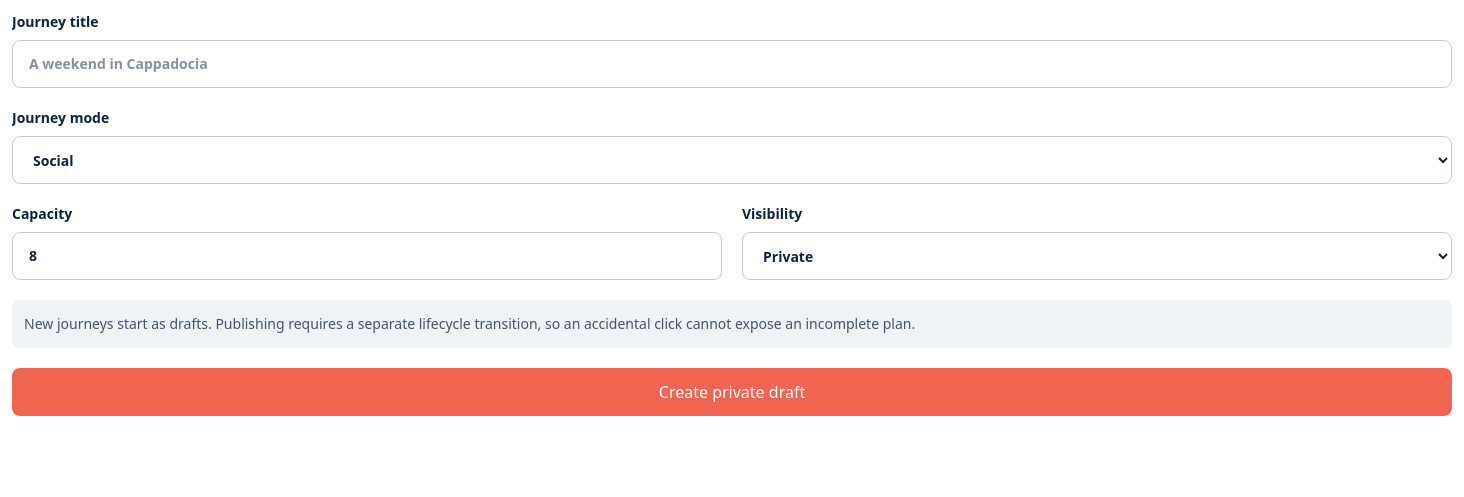
it: QuickCreateForm › offers sign-in recovery for an unauthenticated create
Type "Cappadocia Together" into the field labelled "Journey title" at (732, 64), box [12,40,1452,88]
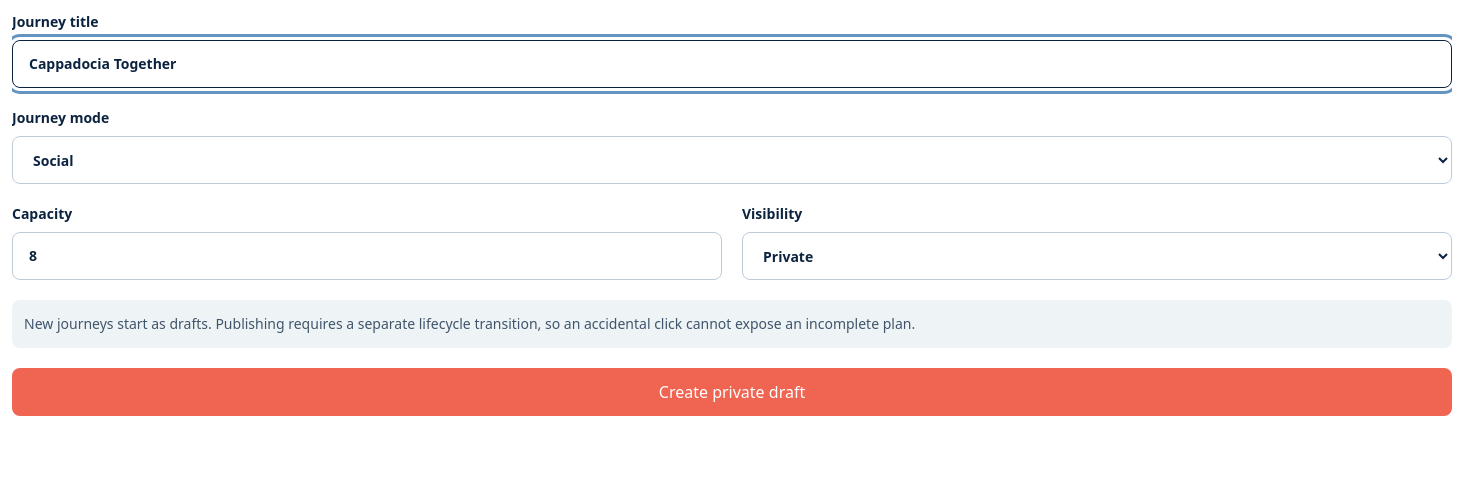
Click the button "Create private draft" at (732, 392), box [12,368,1452,416]
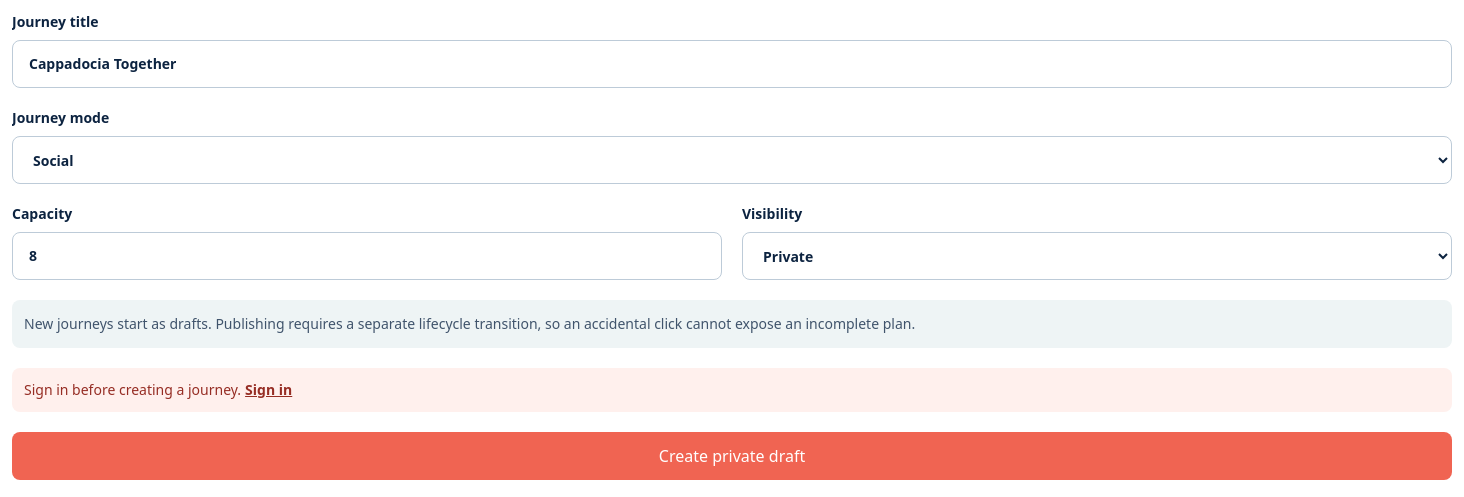
Now the message shows "Sign in before creating a journey.", box [24,380,241,399]
